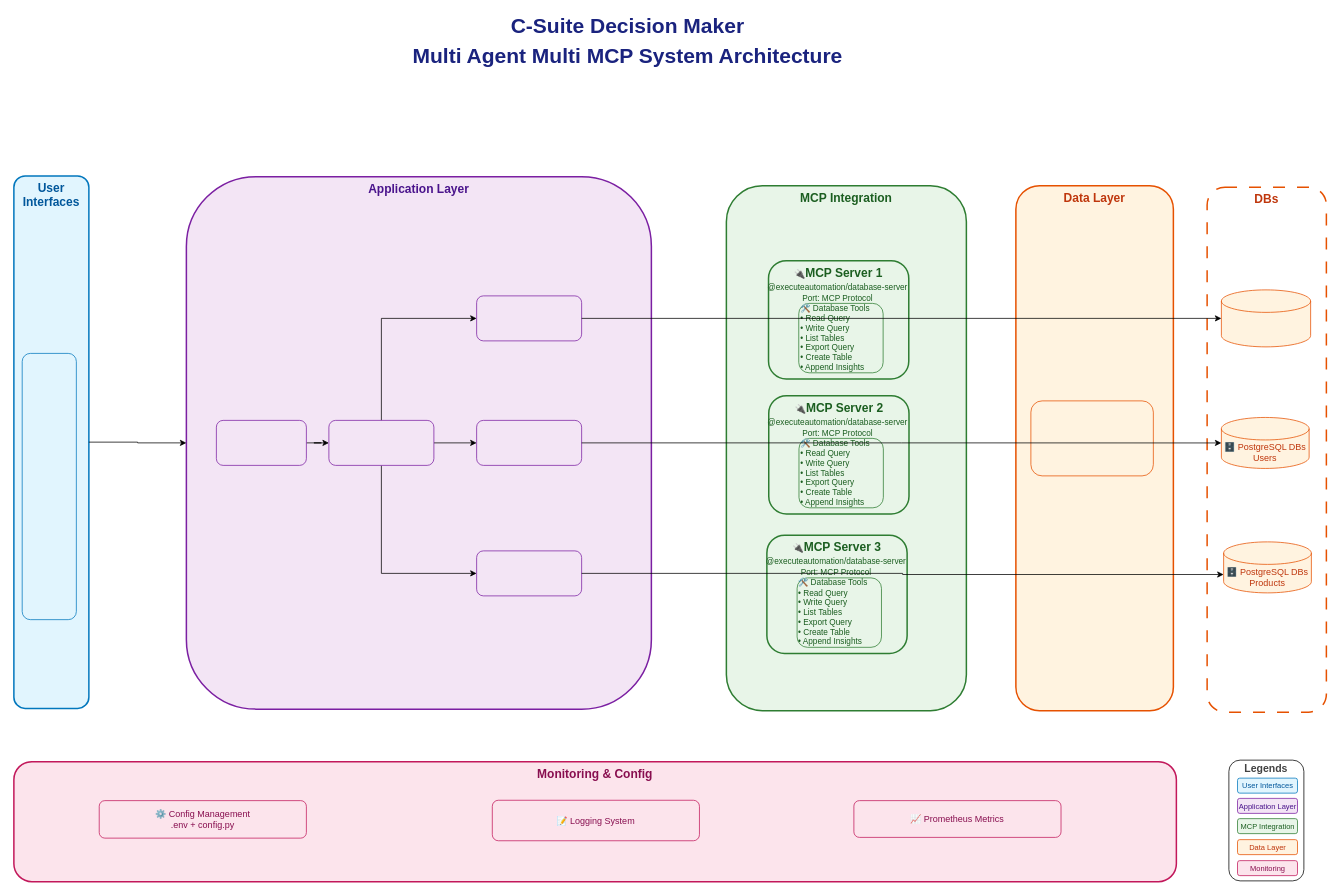
Image size: 1340x895. Some labels were removed from this diagram. Each missing label, with the centre of its shape:
"API" belongs at (261,442).
"⚡ Connection Pool AsyncPG + SQLAlchemy" belongs at (1091,438).
"🌐 Web Interface" belongs at (48,486).
"📁 Demo SQLite DB ./data/demo.db" belongs at (1266,318).
"🤖 Specialized Agent 1" belongs at (529,318).
"🤖 Specialized Agent 2" belongs at (529,442).
"🤖 Specialized Agents 3" belongs at (529,573).
"🧠 Enhanced Orchestrator orchestrator.py" belongs at (381,442).
